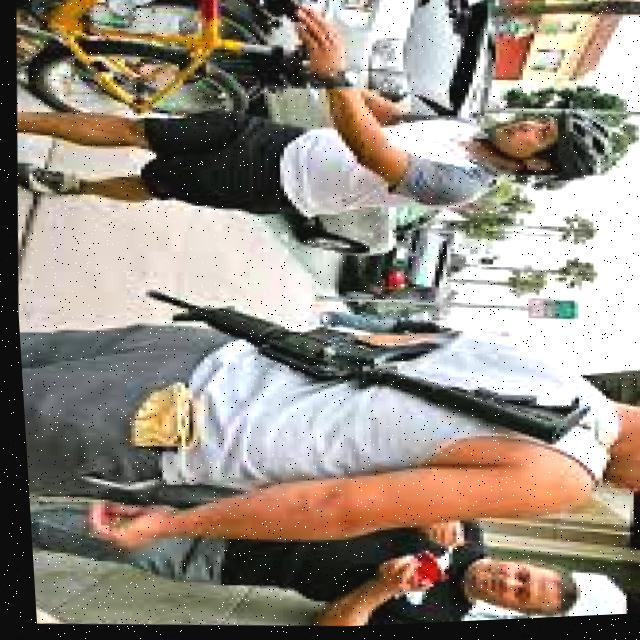firearm: (133, 273, 596, 466)
